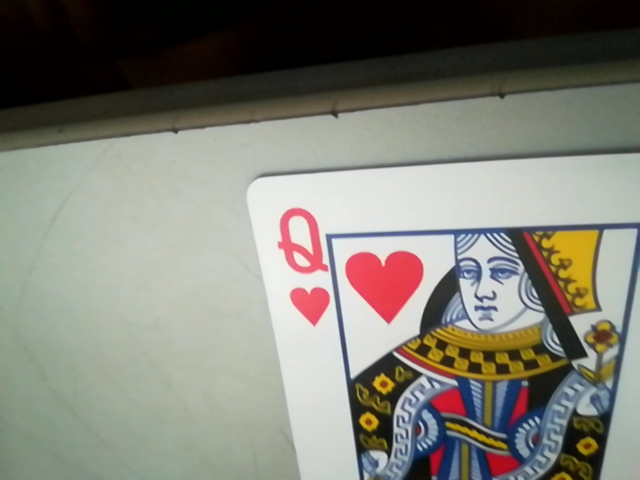hx q: (273, 204, 343, 328)
